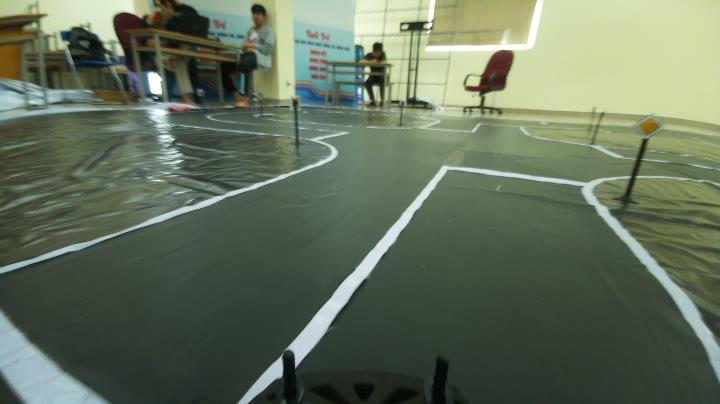priority: (633, 110, 665, 141)
